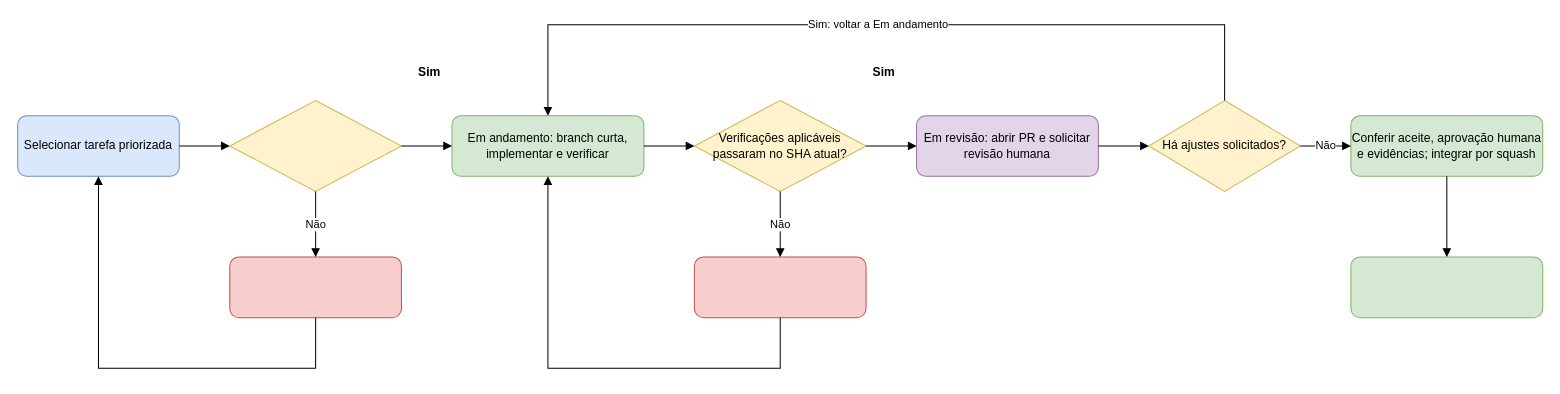
Some shapes in this 1560 by 394 pixel diagram are drawn without their labels. The shapes that lost their labels are listed below. From the top down, each one's box as (x1, y1, x2, y2) in pixels, then its label:
(229, 99, 401, 191): Objetivo, aceite, responsável e dependências claros?
(229, 256, 401, 318): Refinar ou registrar impedimento
(693, 256, 866, 318): Corrigir ou registrar impedimento
(1350, 256, 1543, 318): Conferir resultado em main e concluir
